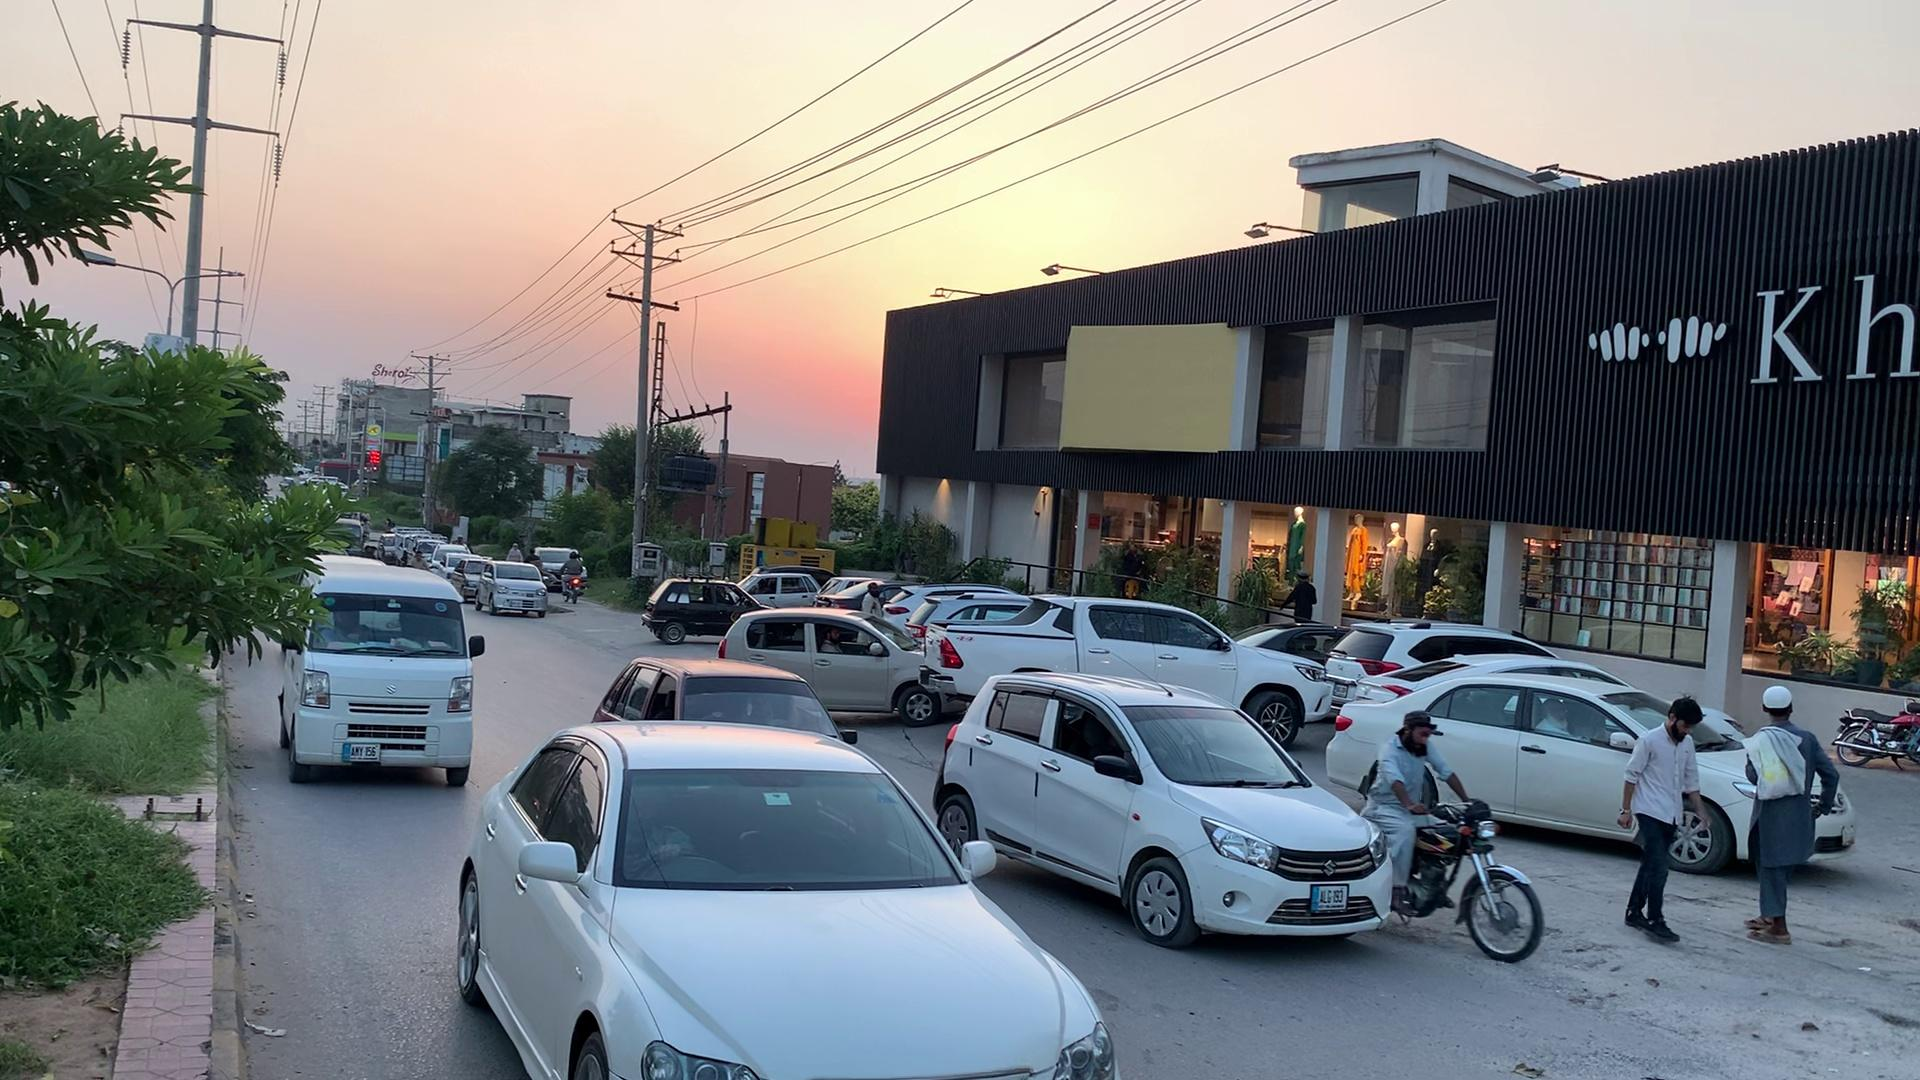windshield: (608, 757, 990, 916), (1101, 700, 1327, 787)
